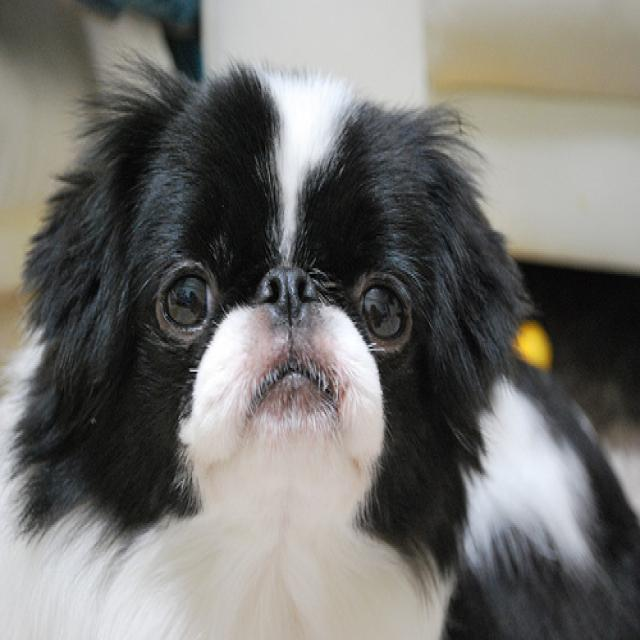dog-japanese_chin: (1, 54, 637, 636)
